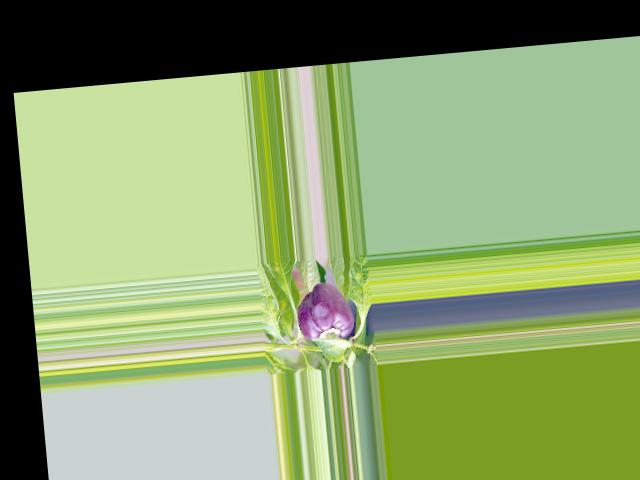bell_pepper: (292, 278, 355, 349)
